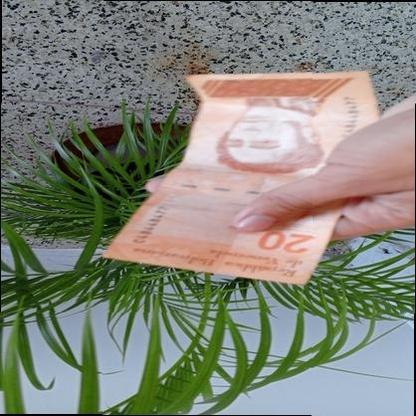twenty-front-vef: (104, 69, 378, 286)
